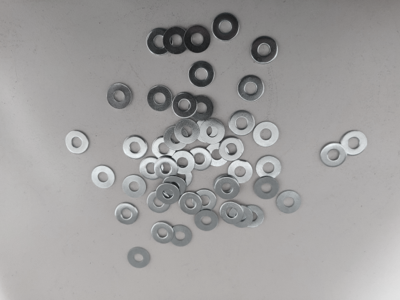circle: (251, 36, 279, 64), (184, 25, 211, 54), (212, 13, 239, 41), (238, 76, 265, 102), (147, 28, 173, 55), (340, 131, 368, 156), (189, 62, 215, 88), (320, 143, 347, 168), (164, 27, 188, 55), (253, 122, 279, 147), (229, 111, 255, 136), (147, 86, 172, 112), (172, 93, 197, 119), (107, 84, 132, 109), (189, 96, 214, 121), (123, 135, 148, 160), (200, 119, 225, 144), (175, 119, 200, 144), (164, 126, 189, 151), (66, 130, 90, 155), (228, 160, 253, 184), (168, 166, 193, 190), (256, 156, 282, 179), (92, 165, 116, 189), (205, 143, 229, 167), (152, 136, 176, 160), (154, 156, 178, 180), (140, 157, 164, 181), (277, 191, 302, 214), (254, 177, 279, 200), (214, 175, 239, 198), (219, 138, 244, 161), (195, 121, 220, 144), (229, 205, 253, 228), (189, 147, 212, 171), (179, 192, 203, 215), (171, 152, 195, 175), (147, 191, 171, 214), (215, 178, 240, 200), (123, 175, 146, 198), (242, 205, 265, 228), (220, 202, 244, 224), (193, 190, 217, 212), (156, 184, 181, 205), (115, 203, 138, 225), (151, 222, 174, 244), (170, 225, 193, 247), (195, 210, 218, 232), (163, 177, 187, 197), (128, 248, 150, 269)
